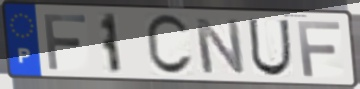1: (97, 10, 125, 76)
C: (143, 12, 196, 78)
F: (295, 19, 343, 79), (41, 12, 89, 72)
N: (191, 16, 248, 76)
U: (246, 17, 294, 79)
